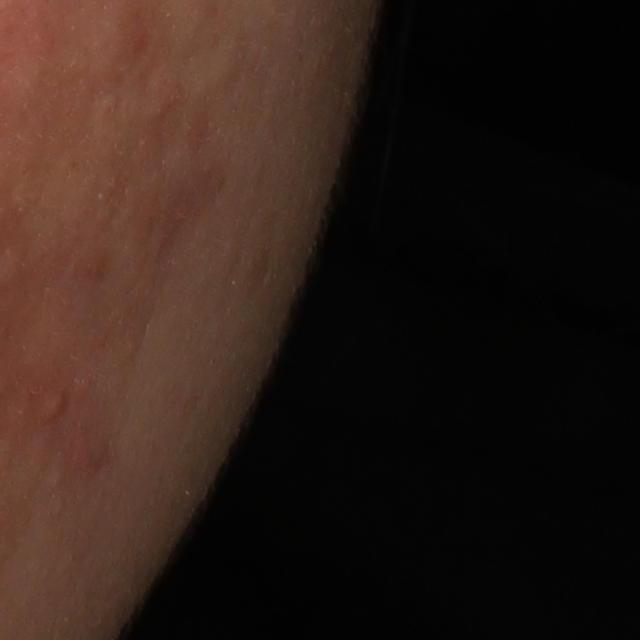papule: (39, 387, 71, 424)
